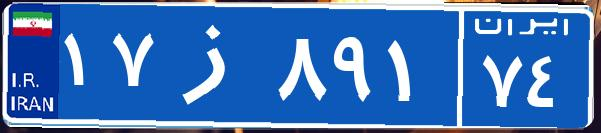1: (385, 28, 445, 110), (57, 26, 110, 107)
4: (525, 38, 570, 115)
7: (475, 38, 525, 113), (110, 28, 158, 105)
8: (273, 28, 330, 110)
9: (330, 28, 385, 110)
ز: (158, 15, 273, 115)
